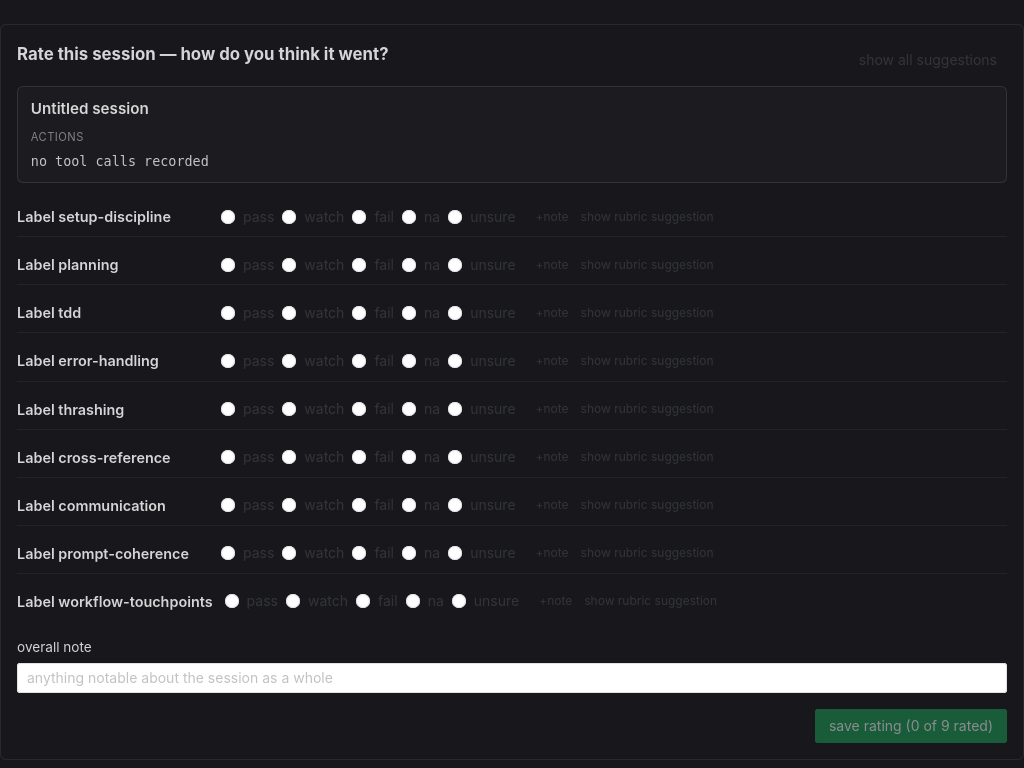
Test: RatingSurvey — save failure › shows an inline error banner and RETAINS the entered verdicts on failure
This screenshot has width=1024, height=768.
Click the radio button labelled "pass" next to "Label setup-discipline" at (252, 217), box left=221, top=206, right=282, bottom=228
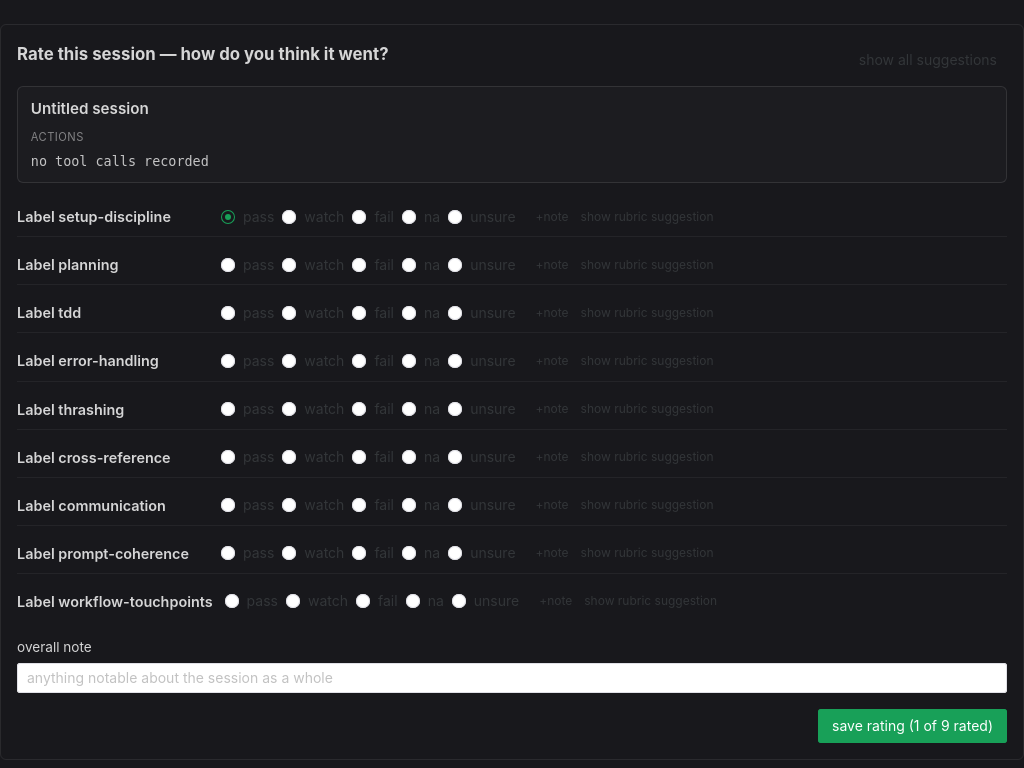
Click the radio button labelled "fail" in the row of "Label planning" at (373, 264), box left=352, top=256, right=394, bottom=273
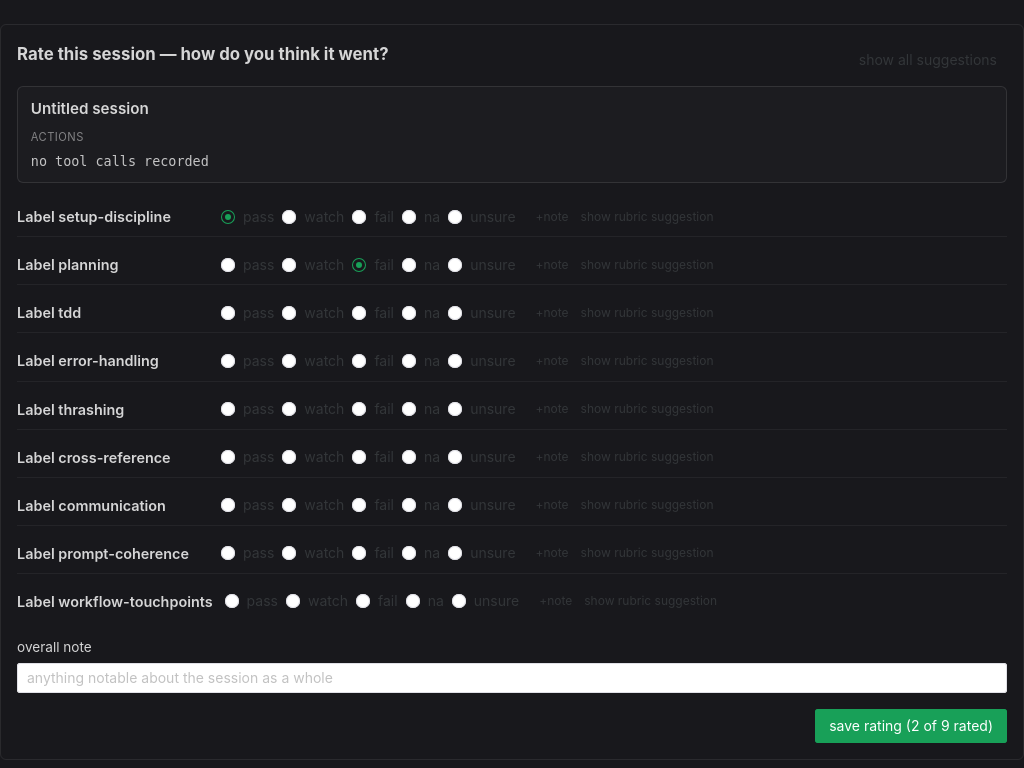
Click the button with test id "survey-save" at (911, 726), box left=815, top=709, right=1007, bottom=743
(page scrolled)
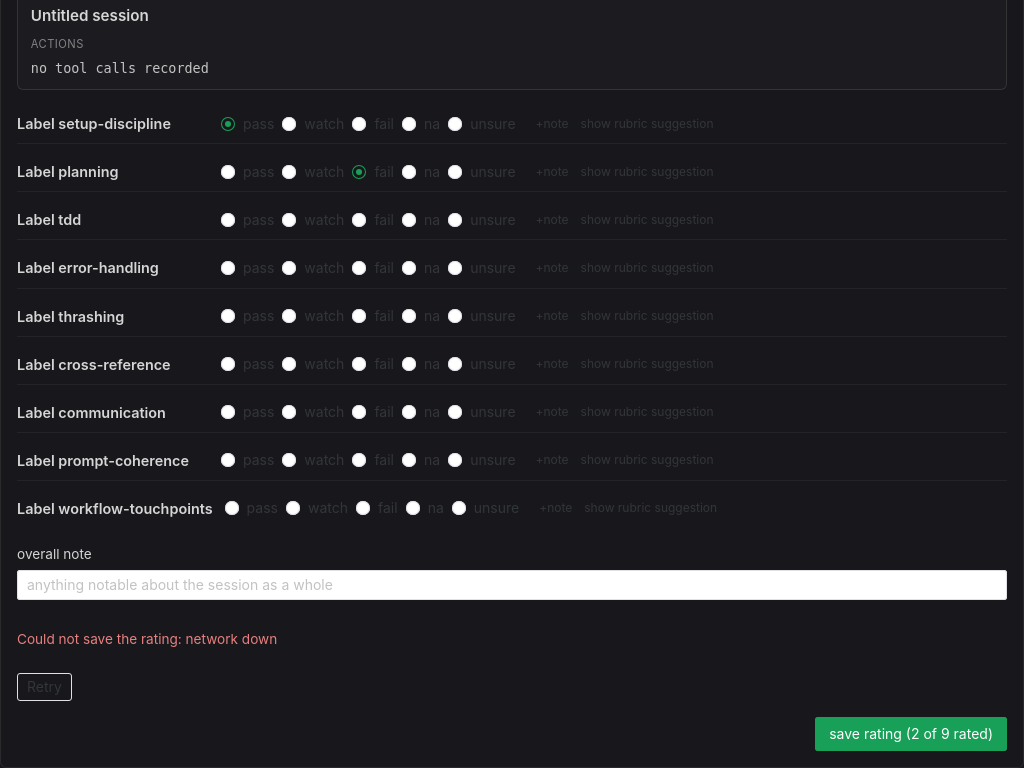
Expected: the radio button labelled "pass" next to "Label setup-discipline" is checked, left=221, top=113, right=282, bottom=135
Expected: the element with test id "survey-error" is shown, left=17, top=631, right=277, bottom=701
Expected: the element with test id "survey-error" shows "network down", left=17, top=631, right=277, bottom=647
